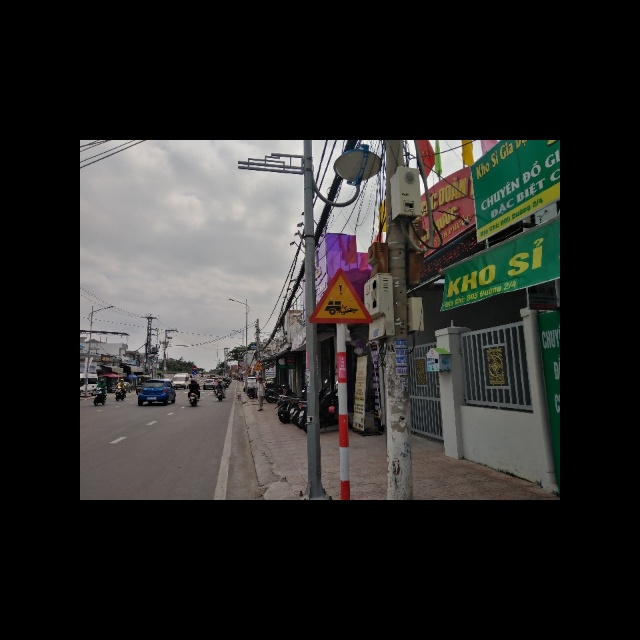Đoạn đường hay xảy ra tai nạn: (307, 266, 377, 327)
Đường đôi: (251, 360, 264, 371)
